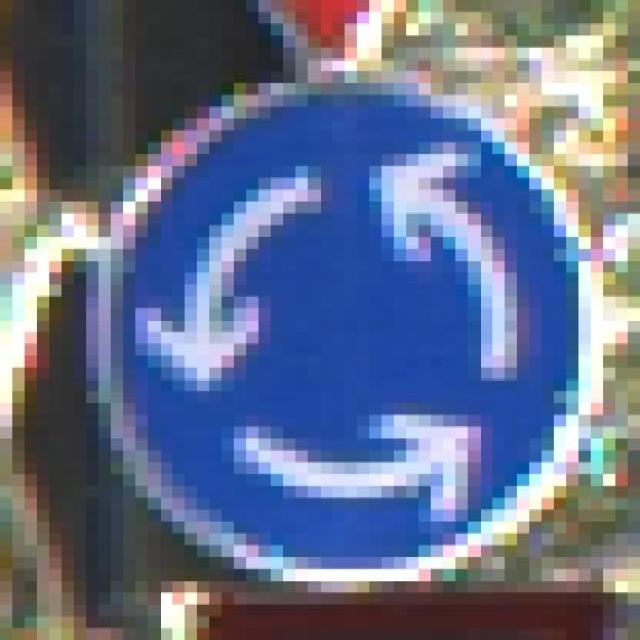Round-About: (49, 71, 616, 592)
